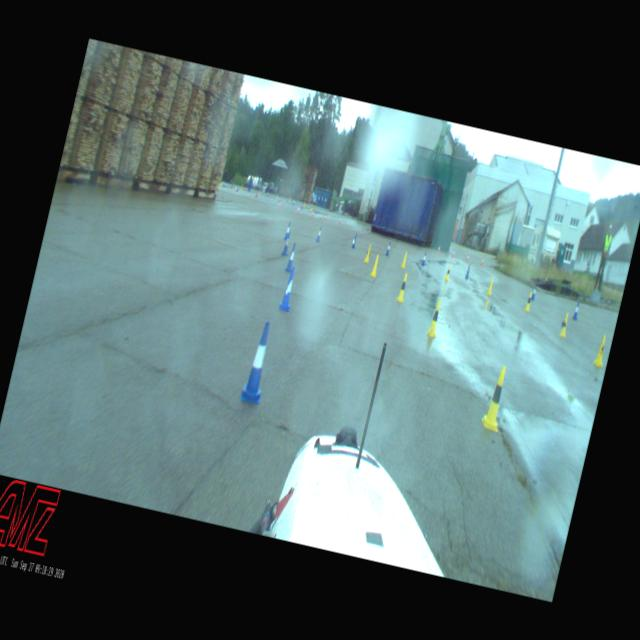blue_cone: (239, 318, 278, 404), (278, 265, 300, 312), (284, 242, 298, 274), (280, 230, 292, 256), (571, 300, 581, 320), (314, 224, 324, 243), (283, 220, 291, 240), (420, 250, 428, 266), (350, 232, 358, 248), (384, 240, 392, 256), (530, 284, 537, 300), (464, 264, 471, 280)
orange_cone: (465, 252, 470, 262), (436, 244, 441, 253), (295, 205, 300, 214), (323, 212, 327, 222), (480, 256, 484, 266), (310, 208, 314, 218), (452, 249, 456, 258), (276, 201, 280, 210), (338, 216, 342, 224)
yellow_cone: (478, 364, 512, 434), (424, 298, 444, 338), (591, 333, 610, 368), (394, 270, 410, 304), (558, 310, 571, 338), (368, 253, 381, 278), (523, 290, 534, 312), (363, 242, 373, 264), (400, 249, 410, 269), (485, 277, 495, 296), (443, 263, 452, 281), (310, 203, 314, 210)
